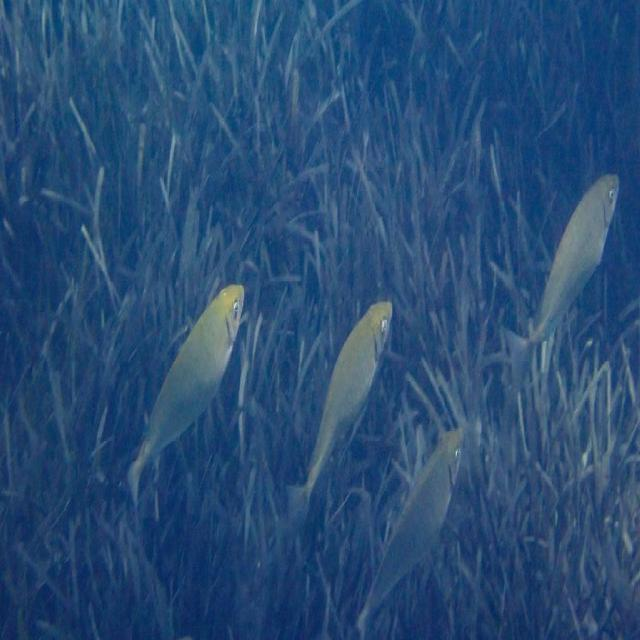Sokar Baligi: (268, 283, 420, 544), (102, 272, 256, 527), (502, 164, 626, 407)
